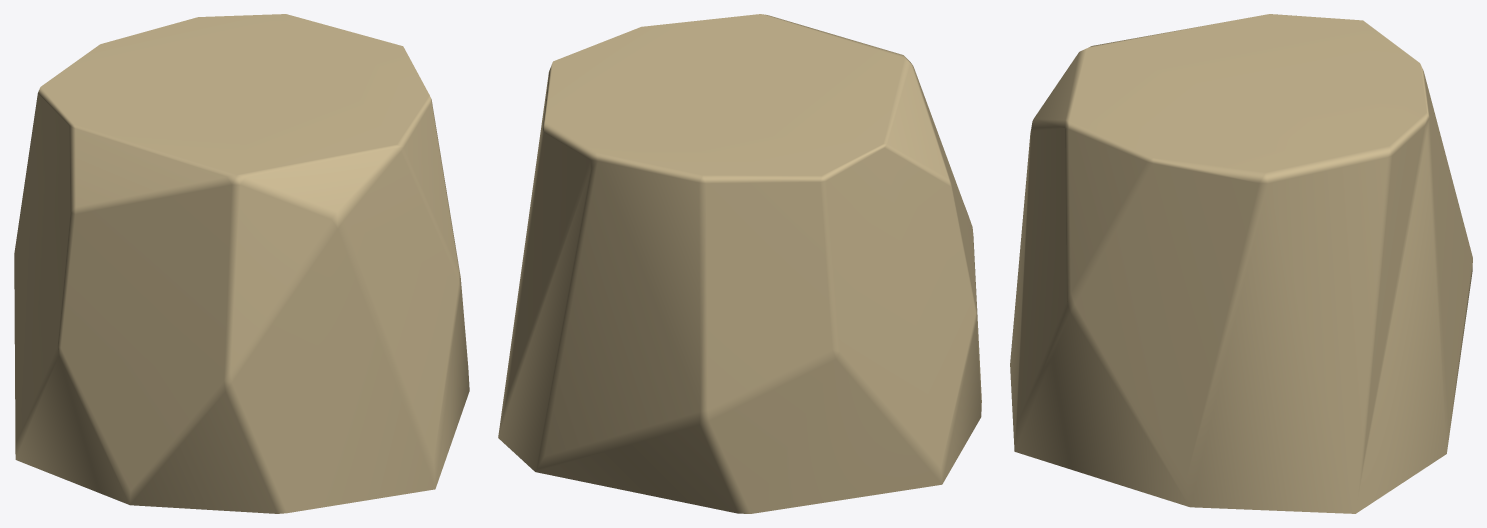
File: PlatformRock_1.fbx
The picture shows the model from 3 angles, left to right: view 1: azimuth 30°, elevation 25°; view 2: azimuth 150°, elevation 25°; view 3: azimuth 270°, elevation 25°; orthographic projection. The views are drawn at different scales.
Visible parts, largest first — view 1: Cube.036; view 2: Cube.036; view 3: Cube.036.
Boxes of the visible parts, x1=… form: Cube.036: x1=14, y1=14, x2=469, y2=513; Cube.036: x1=498, y1=14, x2=981, y2=513; Cube.036: x1=1010, y1=14, x2=1472, y2=513.
Size of the model in its own units: 273 by 214 by 266.
